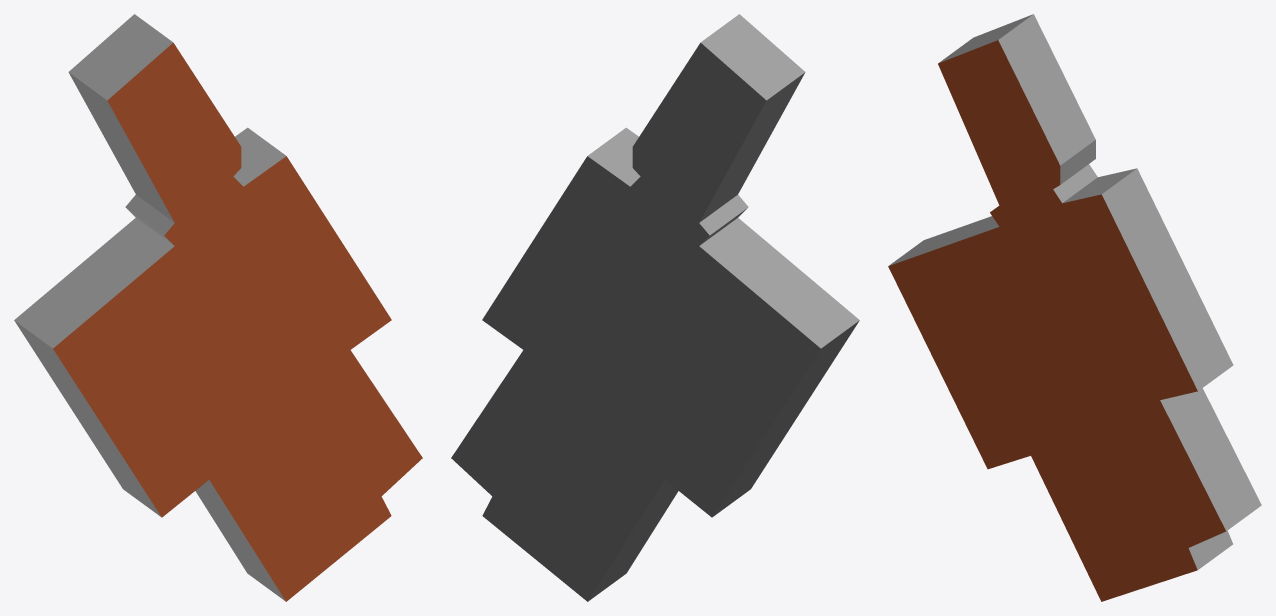
The model's file is construction_3575_assumed_A_Casa_h6m.obj.
3 views of the same model, side by side, from view 1: azimuth 30°, elevation 25°; view 2: azimuth 150°, elevation 25°; view 3: azimuth 330°, elevation 25° (orthographic). The views are drawn at different scales.
Parts seen in each view (by area): view 1: construction_3575_assumed_A_Casa; view 2: construction_3575_assumed_A_Casa; view 3: construction_3575_assumed_A_Casa.
Part boxes in pixels (<box>): construction_3575_assumed_A_Casa: <box>14,14,422,601</box>; construction_3575_assumed_A_Casa: <box>451,14,859,601</box>; construction_3575_assumed_A_Casa: <box>888,14,1261,601</box>.
Bounding box in the file's own units: 32.93 × 49.93 × 6.
